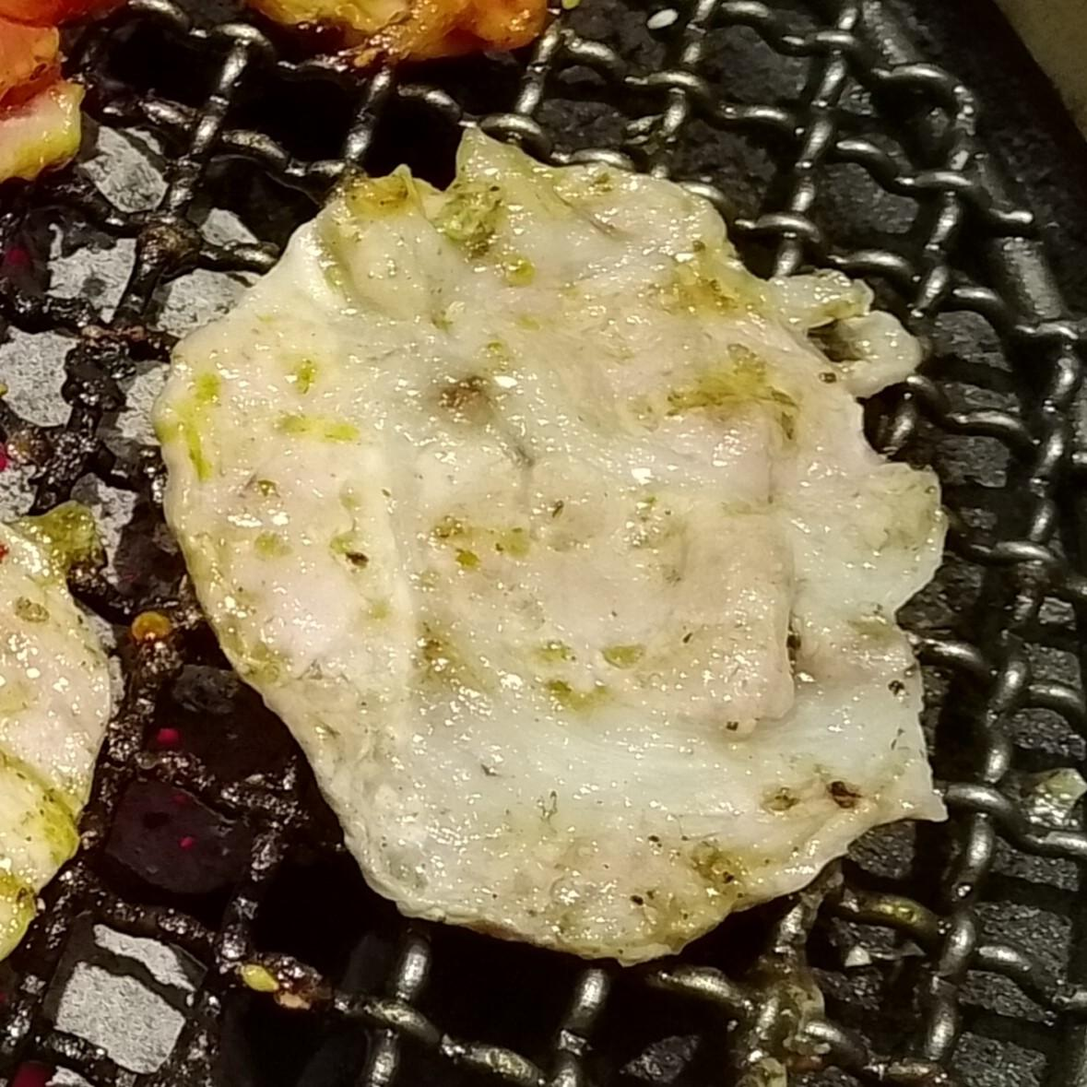Undercooked: (153, 129, 949, 969)
